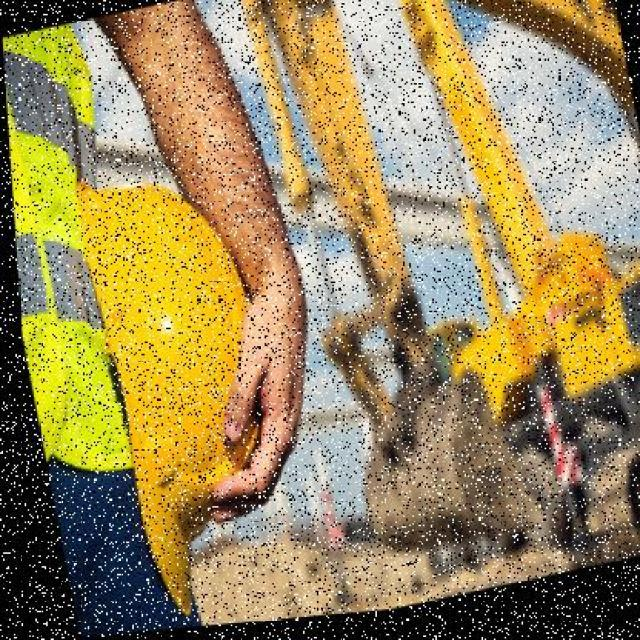helmet: (57, 149, 303, 623)
